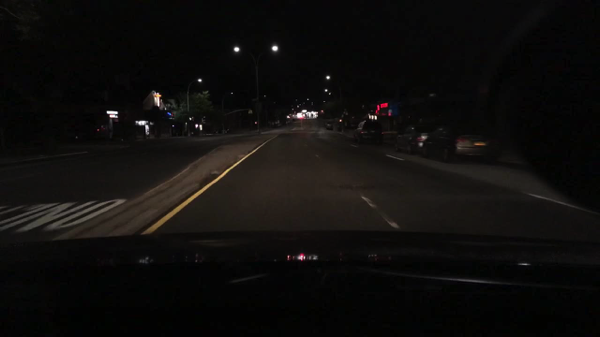car: (419, 121, 500, 165), (392, 121, 436, 157), (352, 118, 386, 144), (76, 123, 108, 139), (325, 117, 344, 132), (301, 110, 308, 113)
traffic light: (247, 110, 252, 115)
traffic sign: (252, 98, 257, 101)
